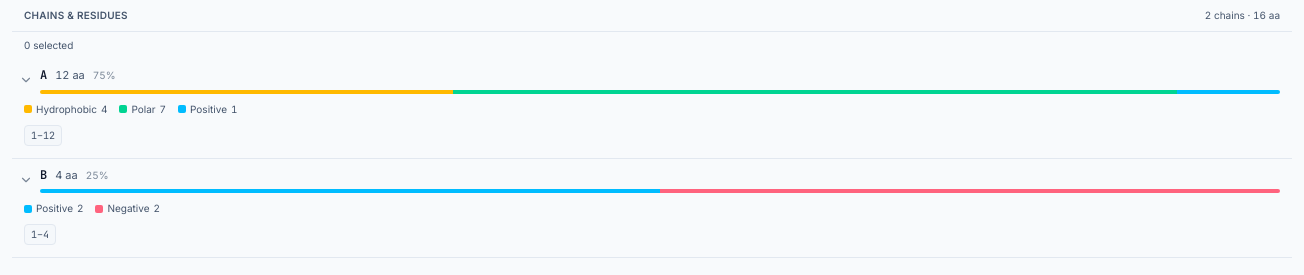
it: ChainTree › lets a row be collapsed again
Click the button named "collapse chain A" at (26, 80), box [12, 59, 40, 102]
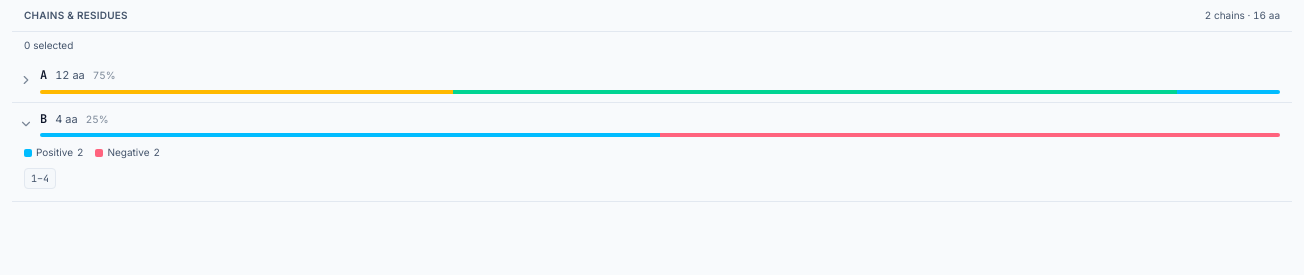
Expected: the button with test id "chain-segment-A-1" is gone
